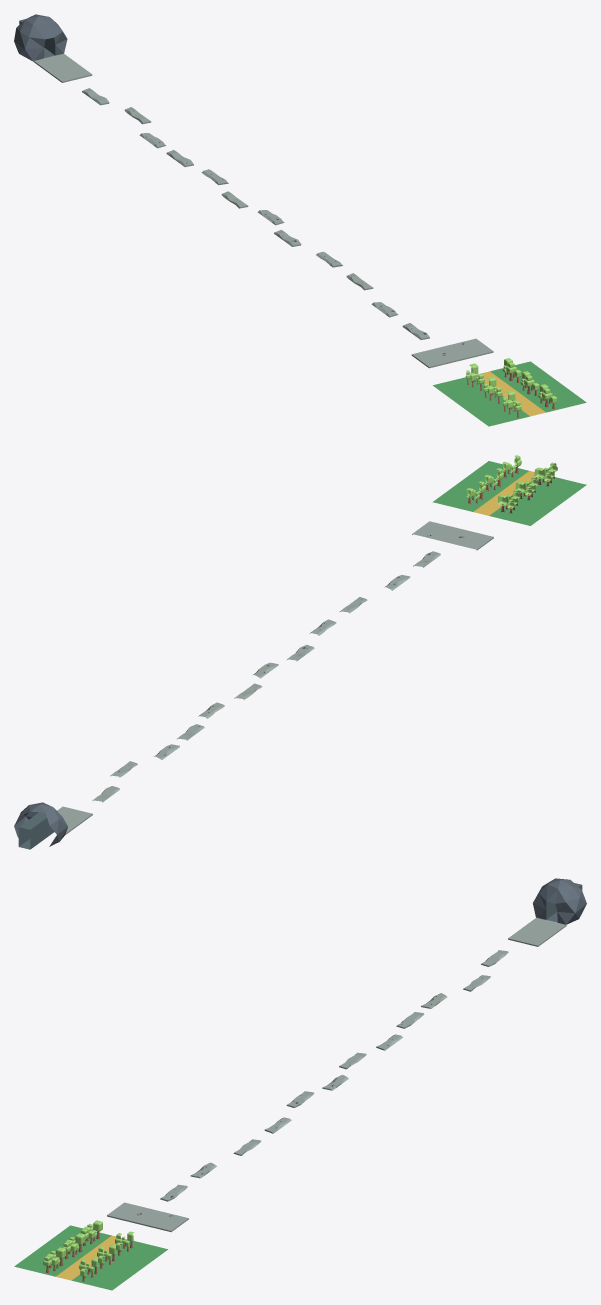
The model's file is road3.fbx.
3 renders of one model, top to bottom at view 1: azimuth 30°, elevation 25°; view 2: azimuth 150°, elevation 25°; view 3: azimuth 330°, elevation 25°, orthographic.
Visible parts, largest first — view 1: Plane.001, Вход в пещеру, Деревья2.001, Начало платформы.002, Начало платформы.001, Платформа 1.002, Платформа 1.003, Платформа 2.002; view 2: Plane.001, Вход в пещеру, Деревья2.001, Начало платформы.002, Платформа 1.003, Платформа 1.002, Платформа 2.002; view 3: Plane.001, Деревья2.001, Вход в пещеру, Начало платформы.002, Начало платформы.001, Платформа 1.002, Платформа 1.003, Платформа 2.002.
Boxes of the visible parts, x1,y1,x2,y2 form: Plane.001: (433,361,586,426); Вход в пещеру: (14,14,67,61); Деревья2.001: (465,358,556,417); Начало платформы.002: (411,338,493,368); Начало платформы.001: (33,53,92,82); Платформа 1.002: (316,251,429,339); Платформа 1.003: (201,169,301,246); Платформа 2.002: (124,107,193,166); Plane.001: (432,461,586,525); Вход в пещеру: (14,802,67,849); Деревья2.001: (466,455,557,513); Начало платформы.002: (412,521,493,550); Платформа 1.003: (198,644,314,718); Платформа 1.002: (309,551,440,635); Платформа 2.002: (110,724,204,777); Plane.001: (14,1225,167,1290); Деревья2.001: (43,1220,134,1281); Вход в пещеру: (533,878,586,924); Начало платформы.002: (107,1202,188,1232); Начало платформы.001: (508,917,566,946); Платформа 1.002: (160,1117,291,1201); Платформа 1.003: (286,1034,403,1107); Платформа 2.002: (396,975,490,1028).
Bounding box in the file's own units: 34218 × 11700 × 309695.
